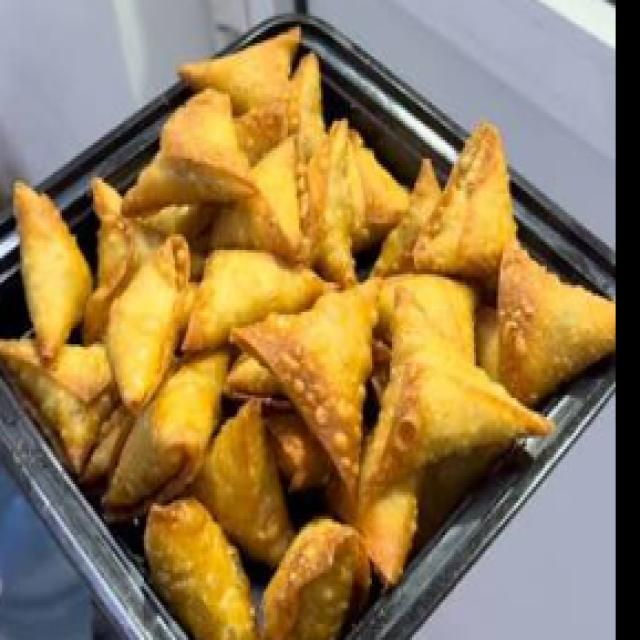Samboosa: (18, 54, 618, 640)
